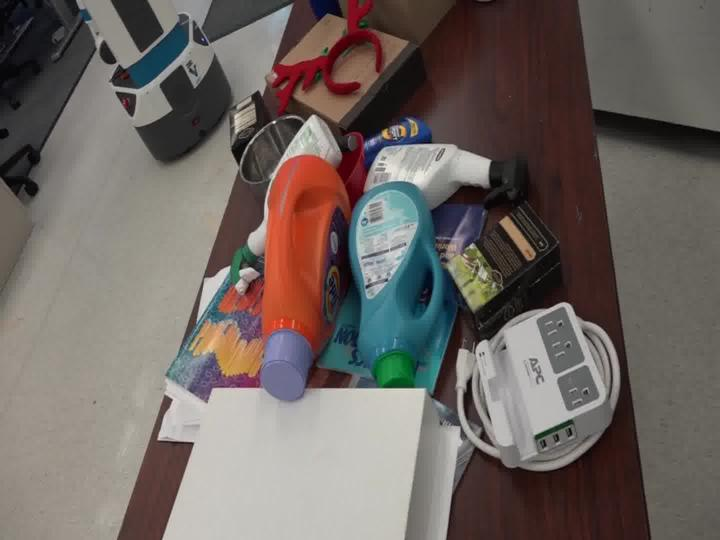downy: (334, 161, 457, 383)
